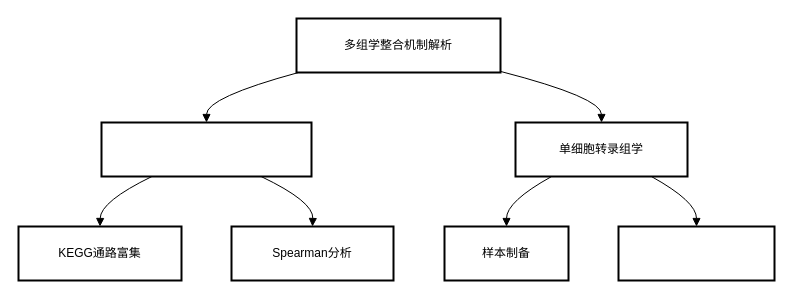
Some shapes in this 792 by 298 pixel diagram are drawn without their labels. Each missing label, with the box of its shape:
宏基因组-代谢组关联: (100, 121, 312, 177)
细胞亚群分析: (617, 225, 775, 281)
